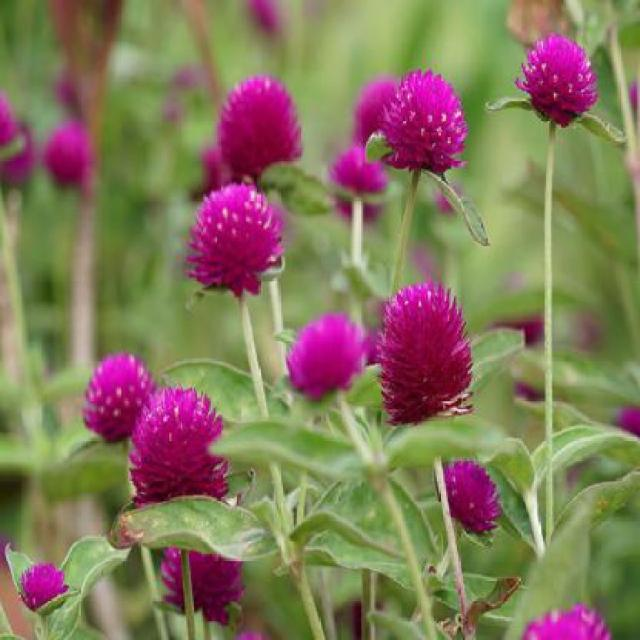flower: (175, 171, 299, 318), (373, 282, 482, 428), (366, 52, 468, 203), (508, 11, 604, 140), (209, 62, 317, 169), (122, 382, 227, 491), (154, 515, 252, 631), (82, 339, 160, 428), (438, 459, 510, 550), (19, 558, 79, 612)
